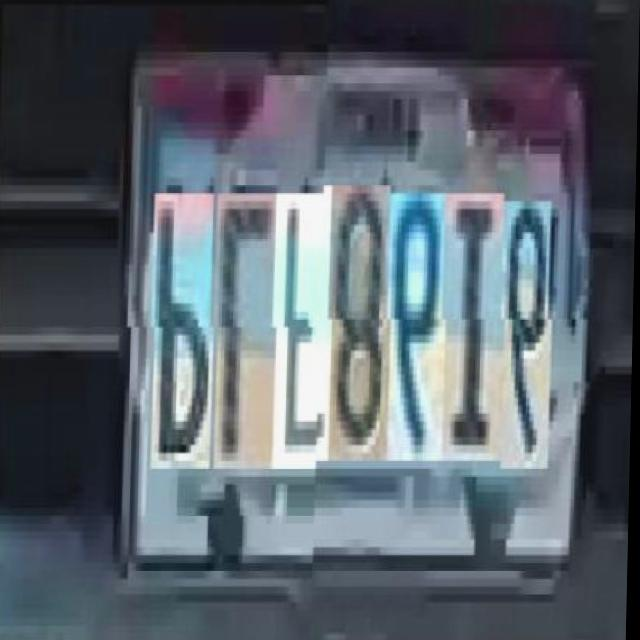6: (388, 193, 451, 461), (503, 201, 556, 469)
8: (329, 185, 395, 461)
f: (273, 185, 336, 461)
i: (444, 193, 510, 461)
l: (215, 185, 281, 461)
p: (153, 185, 219, 461)
